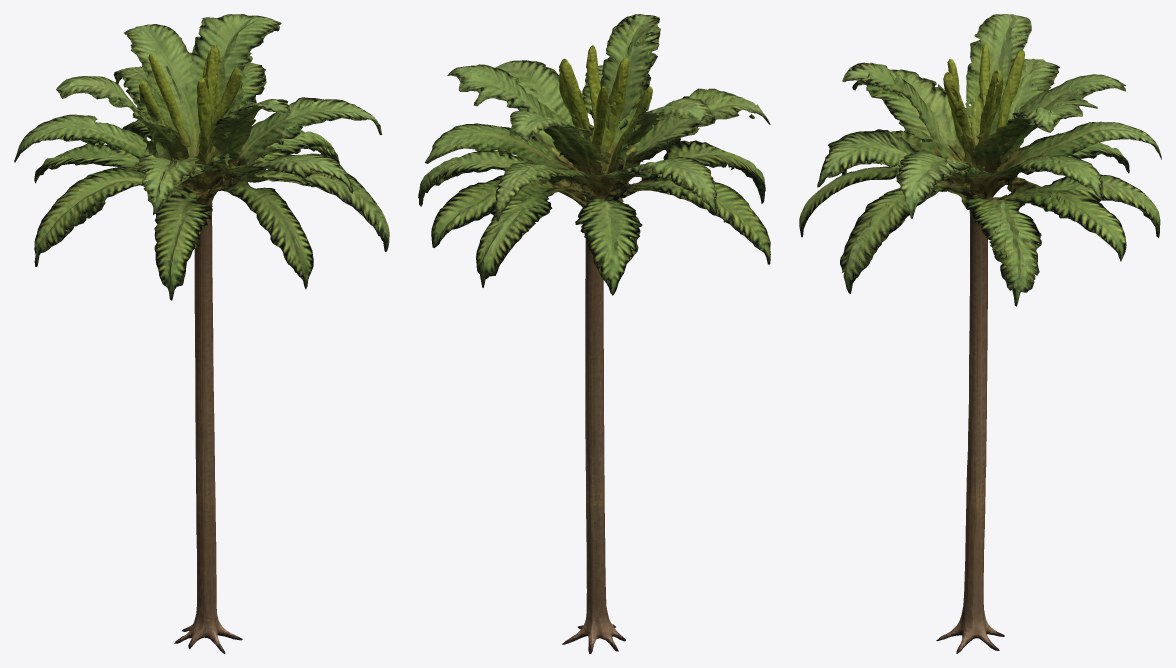
3 views of the same model, side by side, from view 1: azimuth 30°, elevation 25°; view 2: azimuth 150°, elevation 25°; view 3: azimuth 270°, elevation 25° (orthographic).
Parts seen in each view (by area): view 1: world; view 2: world; view 3: world.
Boxes of the visible parts, <box> form: world: <box>14,14,389,653</box>; world: <box>418,14,770,653</box>; world: <box>799,14,1161,653</box>.
Size of the model in its own units: 0.585 by 0.996 by 0.5624.
1 material, 1 textured.
